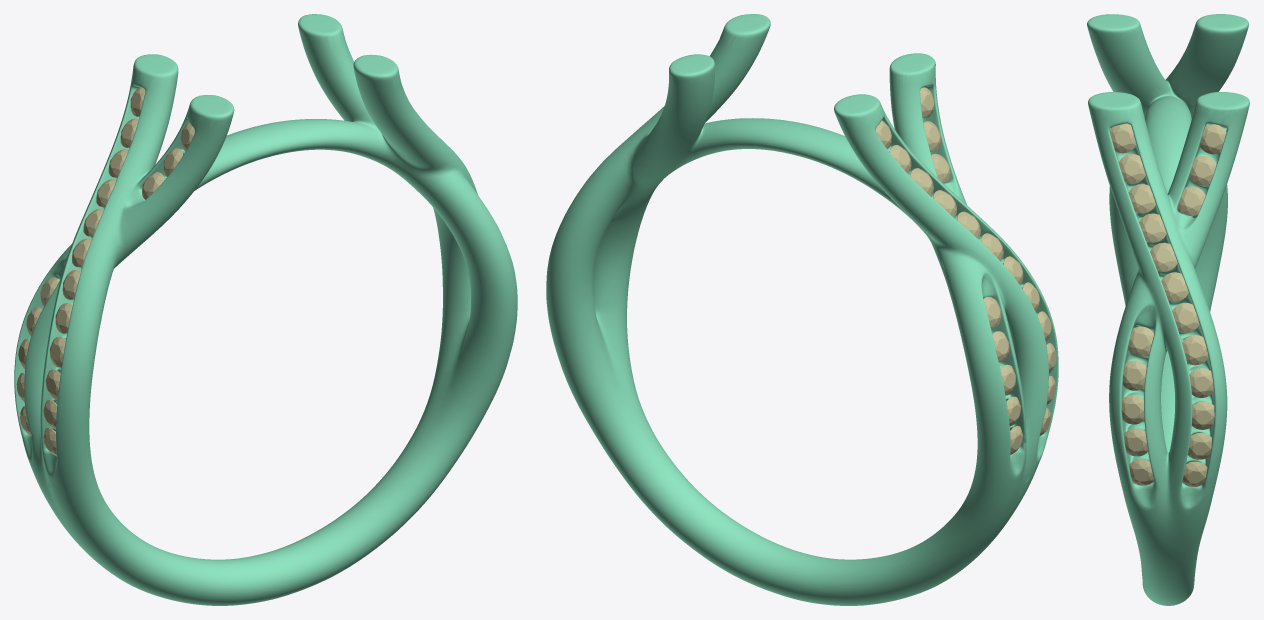
The picture shows the model from 3 angles, left to right: view 1: azimuth 30°, elevation 25°; view 2: azimuth 150°, elevation 25°; view 3: azimuth 270°, elevation 25°; orthographic projection. The views are drawn at different scales.
Visible parts, largest first — view 1: Metal02; view 2: Metal02; view 3: Metal02, Diamond_Gem.015, Diamond_Gem.014, Diamond_Gem, Diamond_Gem.008, Diamond_Gem.009, Diamond_Gem.003, Diamond_Gem.020, Diamond_Gem.010, Diamond_Gem.016, Diamond_Gem.004, Diamond_Gem.002 (+9 smaller).
Boxes of the visible parts, bbox=[...] form: Metal02: bbox=[14, 14, 517, 605]; Metal02: bbox=[546, 14, 1058, 605]; Metal02: bbox=[1087, 14, 1249, 605]; Diamond_Gem.015: bbox=[1189, 155, 1216, 185]; Diamond_Gem.014: bbox=[1199, 124, 1226, 154]; Diamond_Gem: bbox=[1128, 326, 1153, 356]; Diamond_Gem.008: bbox=[1172, 303, 1199, 332]; Diamond_Gem.009: bbox=[1182, 335, 1208, 365]; Diamond_Gem.003: bbox=[1118, 154, 1145, 183]; Diamond_Gem.020: bbox=[1122, 360, 1146, 390]; Diamond_Gem.010: bbox=[1189, 368, 1213, 397]; Diamond_Gem.016: bbox=[1178, 186, 1205, 215]; Diamond_Gem.004: bbox=[1128, 184, 1155, 213]; Diamond_Gem.002: bbox=[1110, 123, 1136, 153].
Size of the model in its own units: 21.07 by 22.85 by 6.47.
